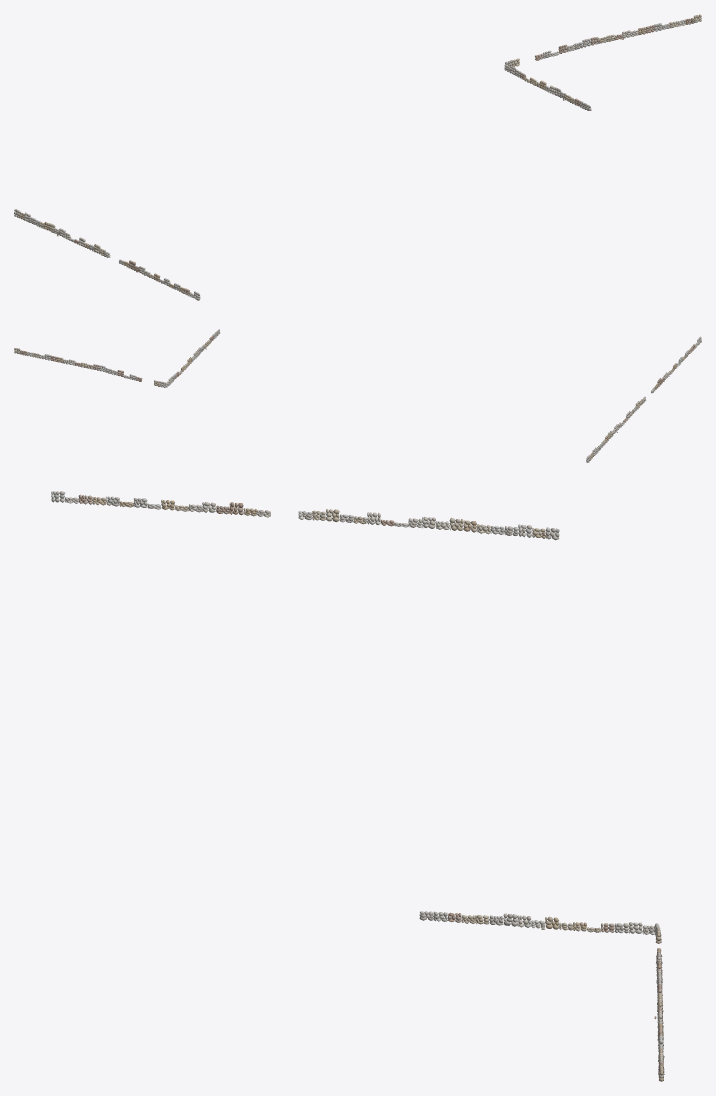
File: farm_4_27_near.glb
The picture shows the model from 3 angles, top to bottom: view 1: azimuth 30°, elevation 25°; view 2: azimuth 150°, elevation 25°; view 3: azimuth 270°, elevation 25°; orthographic projection. The views are drawn at different scales.
Visible parts, largest first — view 1: geometry_0; view 2: geometry_0; view 3: geometry_0.
Boxes of the visible parts, <box> form: geometry_0: <box>14,14,701,300</box>; geometry_0: <box>14,329,701,462</box>; geometry_0: <box>51,491,664,1081</box>.
Bounding box in the file's own units: 143 × 8.75 × 69.43.
